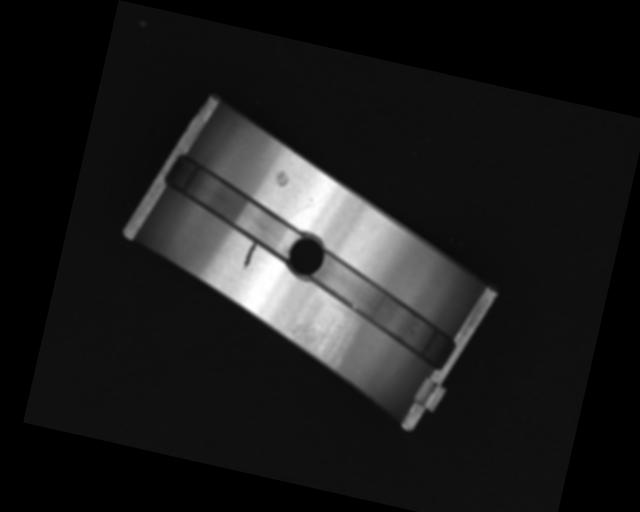bruise: (272, 169, 292, 190)
gap: (300, 251, 464, 365), (156, 155, 309, 254)
hole: (283, 232, 328, 278)
nick: (241, 239, 258, 273)
scratch: (284, 301, 356, 380)
